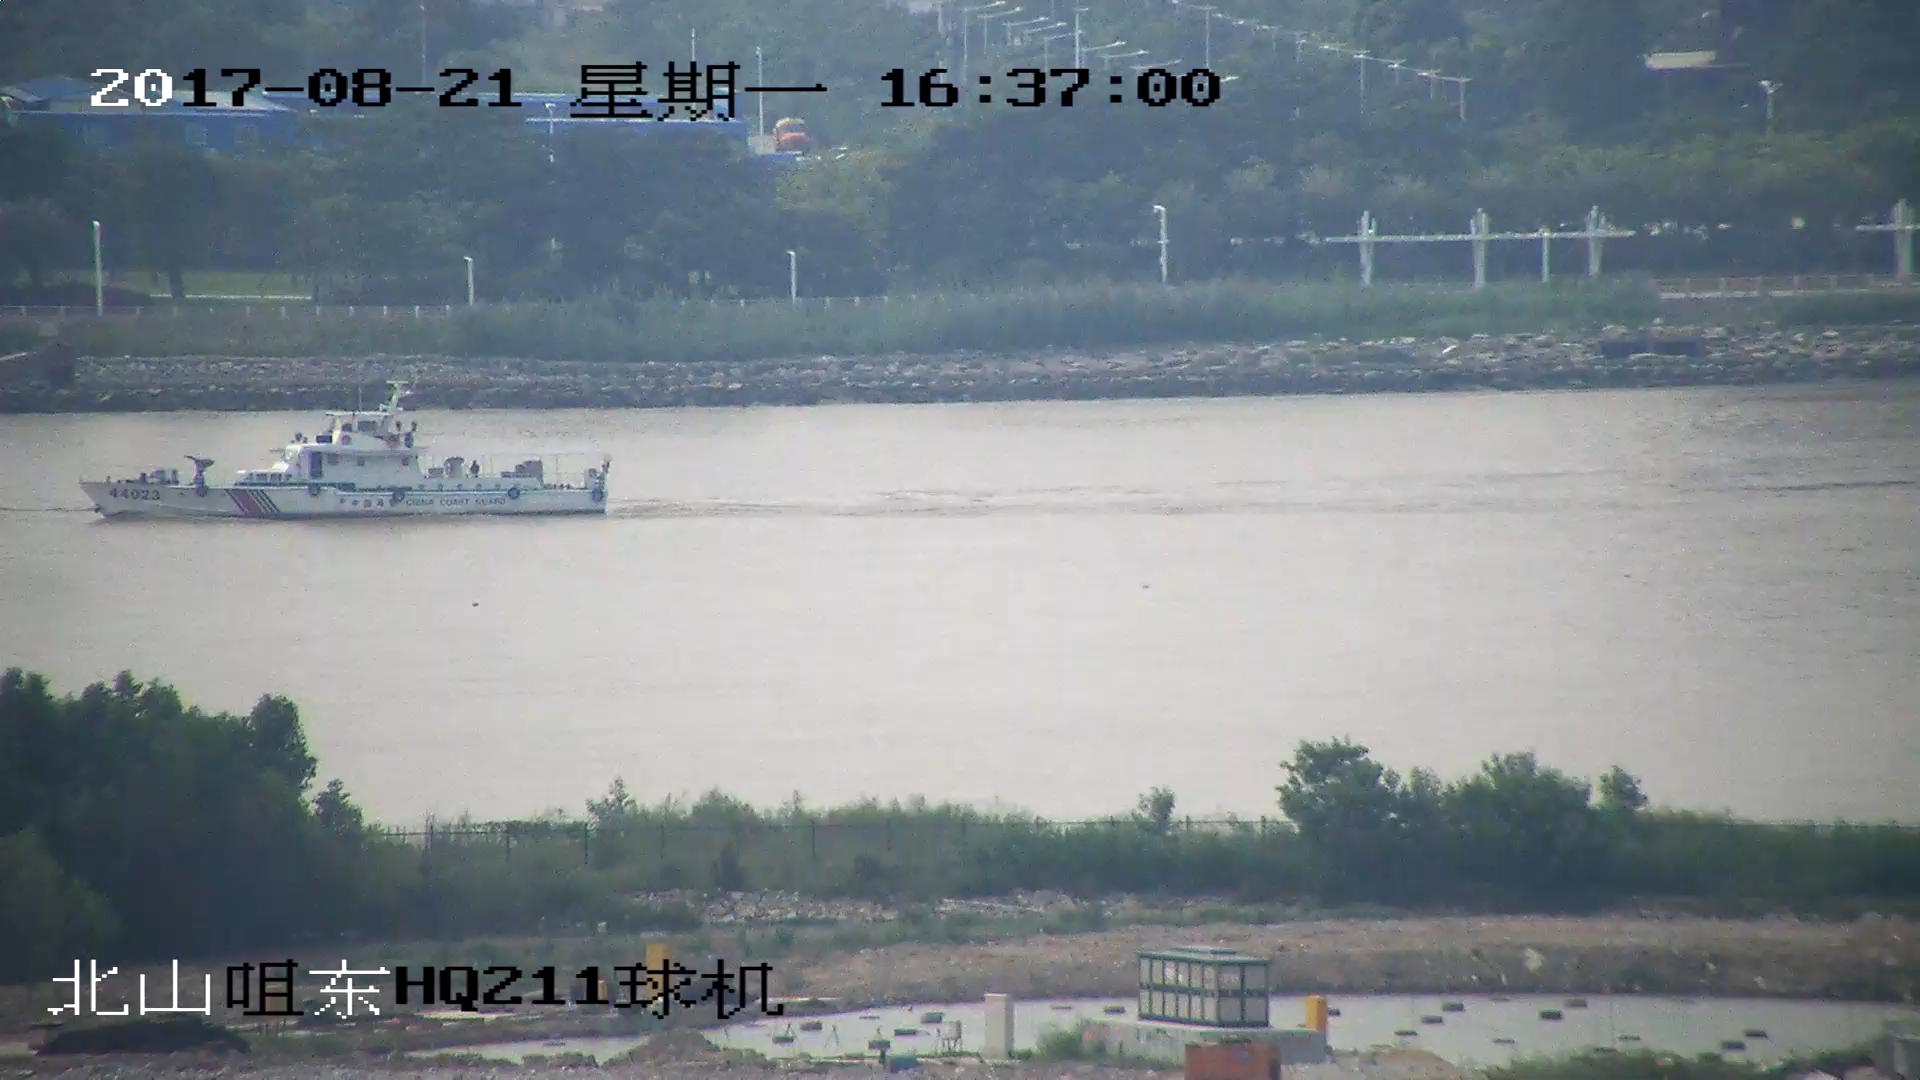passenger ship: (78, 377, 610, 515)
